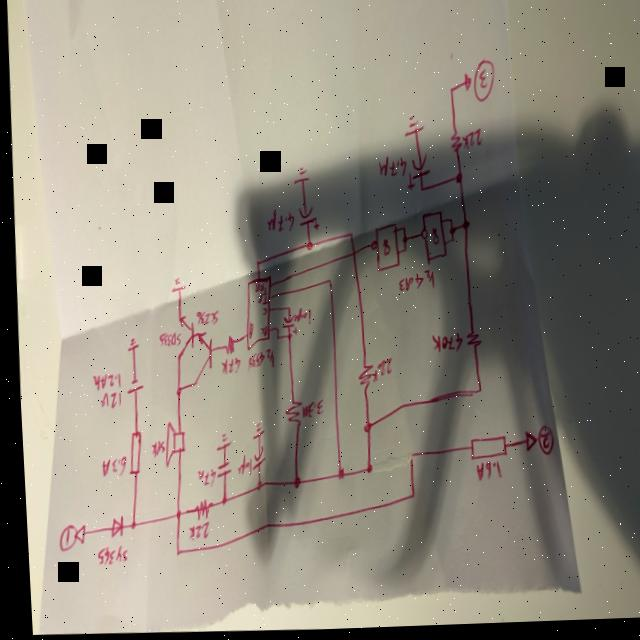capacitor: (403, 155, 428, 194), (294, 206, 316, 233), (244, 446, 260, 472), (210, 460, 227, 480), (277, 316, 294, 336)
crossover: (347, 250, 354, 260)
diode: (103, 514, 118, 541)
ground: (400, 116, 423, 142), (289, 166, 308, 187), (209, 433, 226, 453), (166, 276, 183, 295), (246, 423, 260, 442), (121, 337, 136, 353)
junction: (358, 422, 367, 438), (330, 468, 339, 483), (286, 477, 295, 491), (358, 464, 367, 477), (452, 174, 460, 188), (459, 222, 467, 234), (302, 241, 310, 253), (170, 385, 177, 397), (214, 496, 221, 508), (446, 87, 453, 99), (124, 519, 130, 532), (169, 509, 175, 521), (250, 481, 256, 493), (402, 455, 409, 465), (471, 389, 478, 399), (281, 333, 288, 343), (168, 549, 174, 558), (416, 187, 422, 196), (345, 233, 351, 242), (323, 280, 329, 288), (251, 260, 257, 268), (446, 229, 452, 237), (404, 494, 409, 503), (445, 219, 450, 226), (399, 239, 403, 247), (447, 239, 451, 246), (399, 249, 403, 256), (398, 227, 402, 234), (282, 308, 287, 313), (270, 328, 274, 333), (273, 336, 276, 342)
resistor: (463, 435, 501, 464), (121, 430, 138, 476), (278, 401, 297, 430), (352, 364, 370, 394), (187, 499, 205, 522), (460, 332, 478, 353), (447, 131, 461, 158), (219, 335, 230, 357)
source: (120, 377, 139, 396)
terminal: (519, 431, 532, 457), (67, 522, 79, 549), (462, 75, 470, 95)
text: (470, 61, 494, 106), (394, 271, 433, 297), (426, 334, 459, 358), (375, 156, 405, 182), (90, 543, 122, 567), (263, 211, 292, 235), (241, 349, 270, 372), (87, 370, 117, 392), (366, 358, 389, 386), (95, 455, 122, 478), (469, 463, 496, 485), (531, 427, 549, 459), (296, 399, 319, 421), (459, 130, 480, 154), (181, 522, 204, 543), (190, 309, 215, 328), (93, 390, 116, 410), (53, 524, 70, 550), (215, 357, 236, 378), (153, 332, 177, 348), (232, 455, 247, 479), (190, 469, 209, 487), (289, 308, 307, 327), (144, 440, 159, 459), (251, 283, 264, 298), (253, 294, 263, 307), (242, 323, 249, 341), (255, 326, 264, 339), (257, 308, 263, 318)
transistor: (188, 330, 209, 387), (171, 314, 191, 361)
